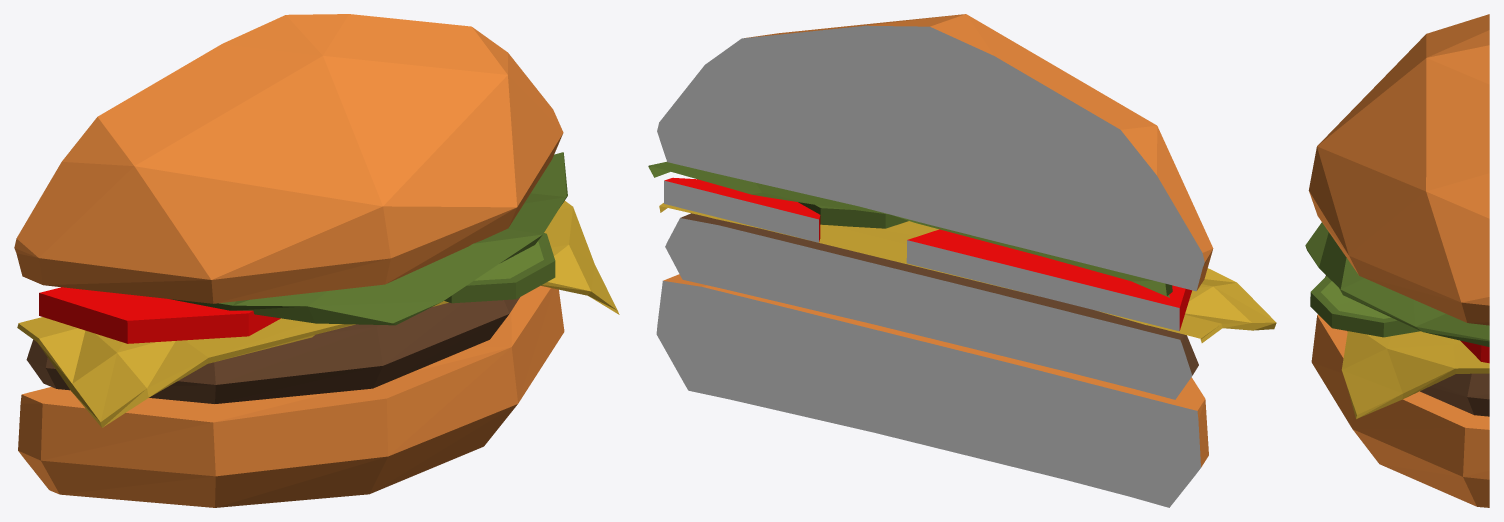
Rendered from burger_half.fbx.
3 views of the same model, side by side, from view 1: azimuth 30°, elevation 25°; view 2: azimuth 150°, elevation 25°; view 3: azimuth 270°, elevation 25° (orthographic). The views are drawn at different scales.
Parts seen in each view (by area): view 1: Plane049, Plane039, Plane041, Plane043, Plane045, Plane047, pickle_005; view 2: Plane049, Plane039, Plane041, Plane047, Plane043, Plane051, Plane045, pickle_005; view 3: Plane049, Plane039, Plane043, Plane045, pickle_005, Plane041, Plane051.
Boxes of the visible parts, x1,y1,x2,y2 form: Plane049: (14,14,563,303); Plane039: (18,285,564,507); Plane041: (26,297,519,403); Plane043: (17,201,619,427); Plane045: (171,152,567,325); Plane047: (39,287,280,343); pickle_005: (444,233,555,303); Plane049: (657,14,1213,291); Plane039: (656,274,1208,507); Plane041: (665,213,1198,399); Plane047: (906,229,1191,331); Plane043: (659,203,1276,342); Plane051: (664,177,820,242); Plane045: (648,161,1172,297); pickle_005: (798,202,908,228); Plane049: (1308,14,1489,325); Plane039: (1311,314,1489,507); Plane043: (1341,331,1489,418); Plane045: (1305,222,1489,346); pickle_005: (1310,276,1420,337); Plane041: (1325,275,1489,416); Plane051: (1460,340,1489,363).
Bounding box in the file's own units: 289 × 210 × 96.83.
Materials: 1 (1 with a texture image).
